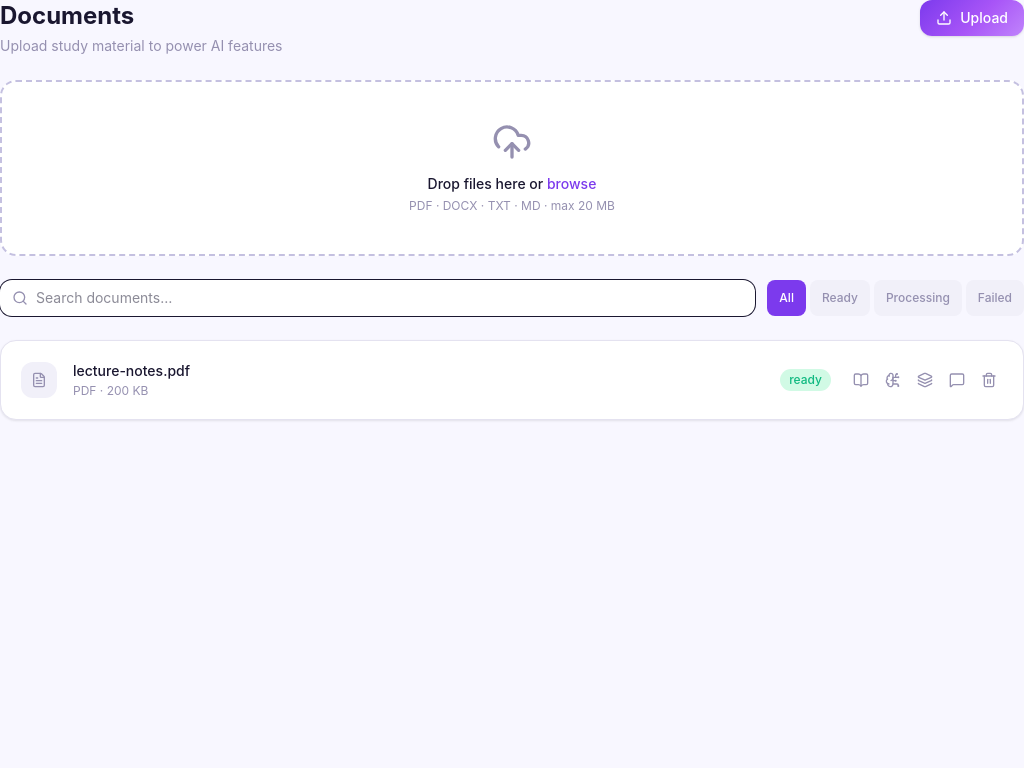
Test: DocumentsPage › closes ask modal on X button
Expected: the text "lecture-notes.pdf" is shown, x1=73 y1=362 x2=190 y2=379
Click the button titled "Ask a question". click: [957, 380]
box: x1=943 y1=366 x2=971 y2=394
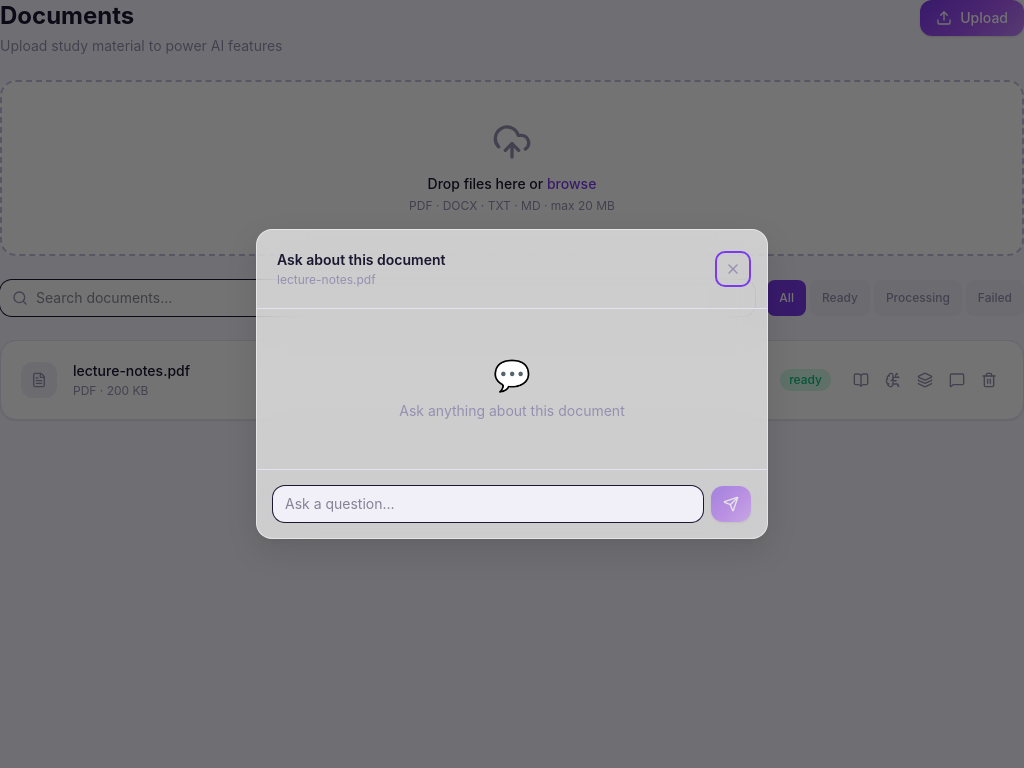
Expected: the heading "Ask about this document" is shown, x1=277 y1=250 x2=445 y2=270
Note: The X close button is the first button inside the modal header (.fixed)
Click the button without text in the row of "Ask about this document". click: [733, 269]
box: x1=719 y1=255 x2=747 y2=283
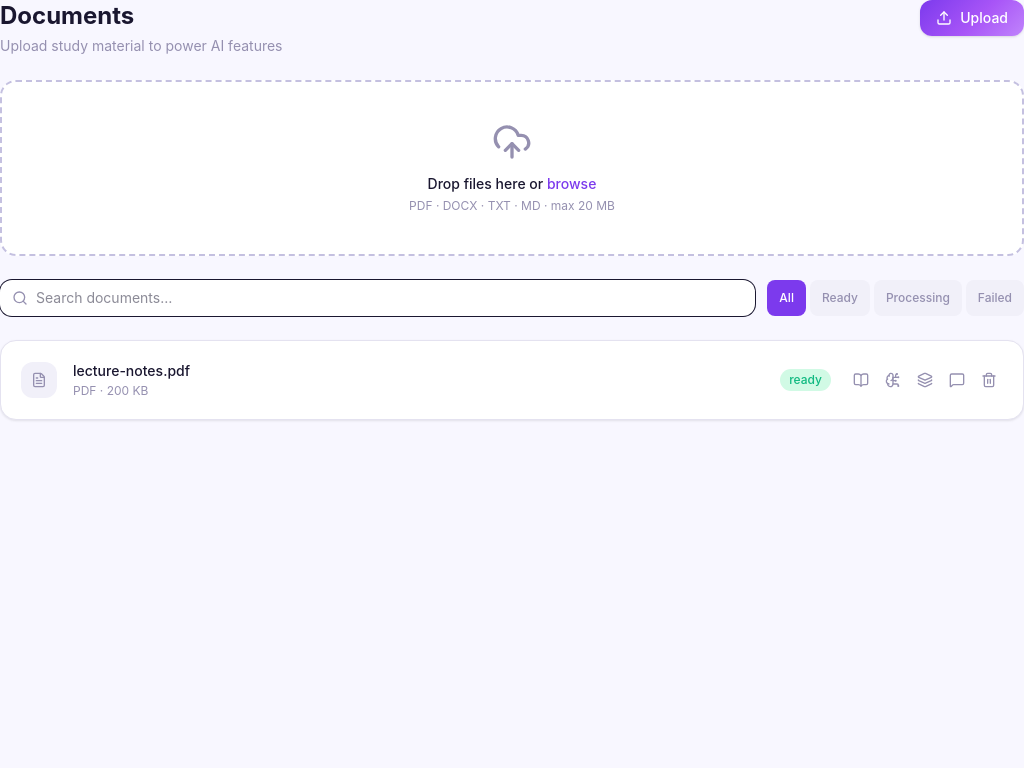
Expected: the heading "Ask about this document" is gone
